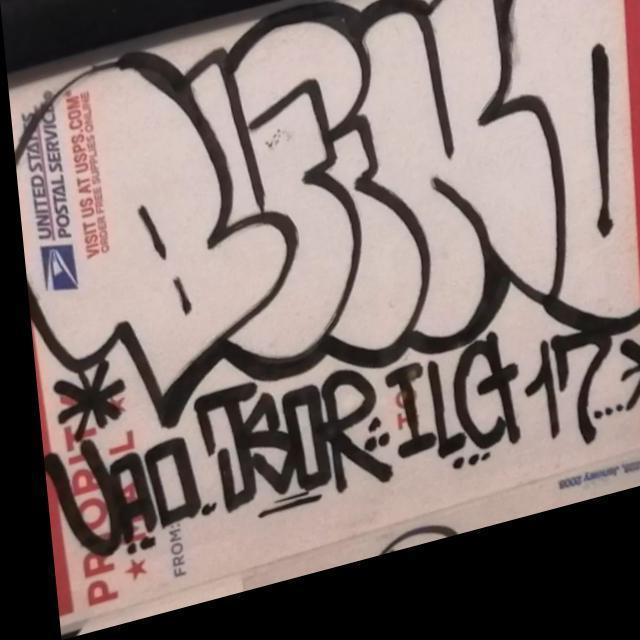nonspitting: (26, 0, 640, 429), (41, 327, 640, 560)
